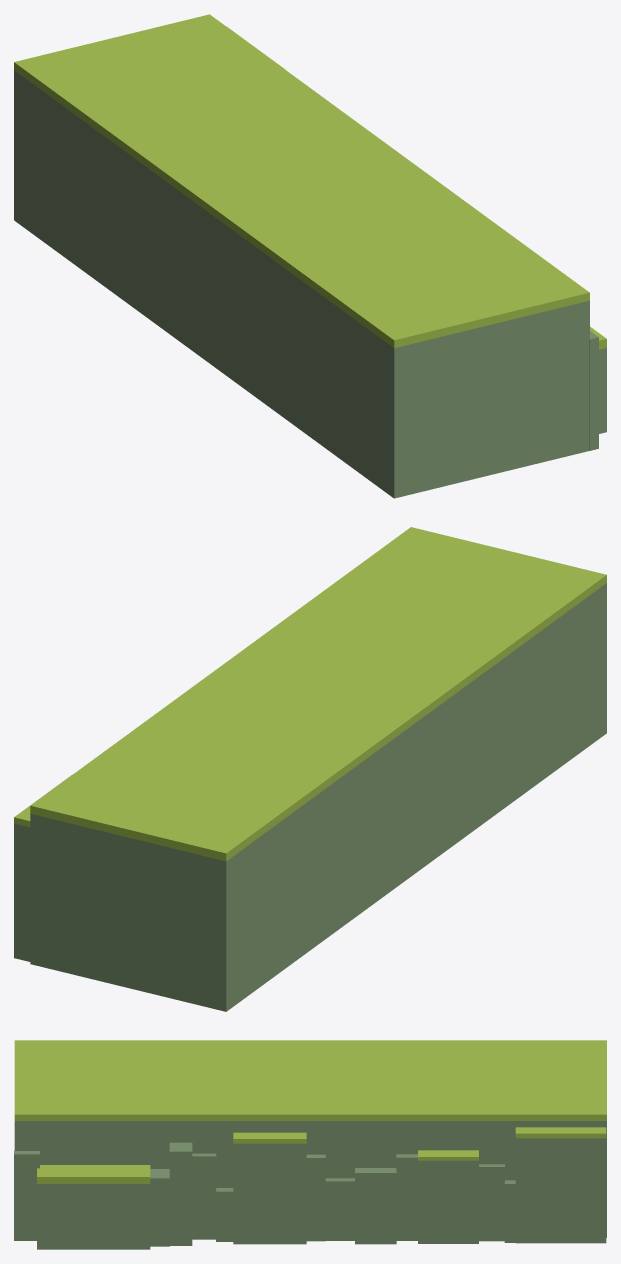
Rendered from Terreno.fbx.
3 renders of one model, top to bottom at view 1: azimuth 30°, elevation 25°; view 2: azimuth 150°, elevation 25°; view 3: azimuth 270°, elevation 25°, orthographic. The views are drawn at different scales.
Parts seen in each view (by area): view 1: Terrain; view 2: Terrain; view 3: Terrain.
Part boxes in pixels (x1=…): Terrain: x1=14, y1=14, x2=606, y2=498; Terrain: x1=14, y1=527, x2=606, y2=1011; Terrain: x1=14, y1=1040, x2=606, y2=1249.
Bounding box in the file's own units: 1171 × 788 × 3397.
